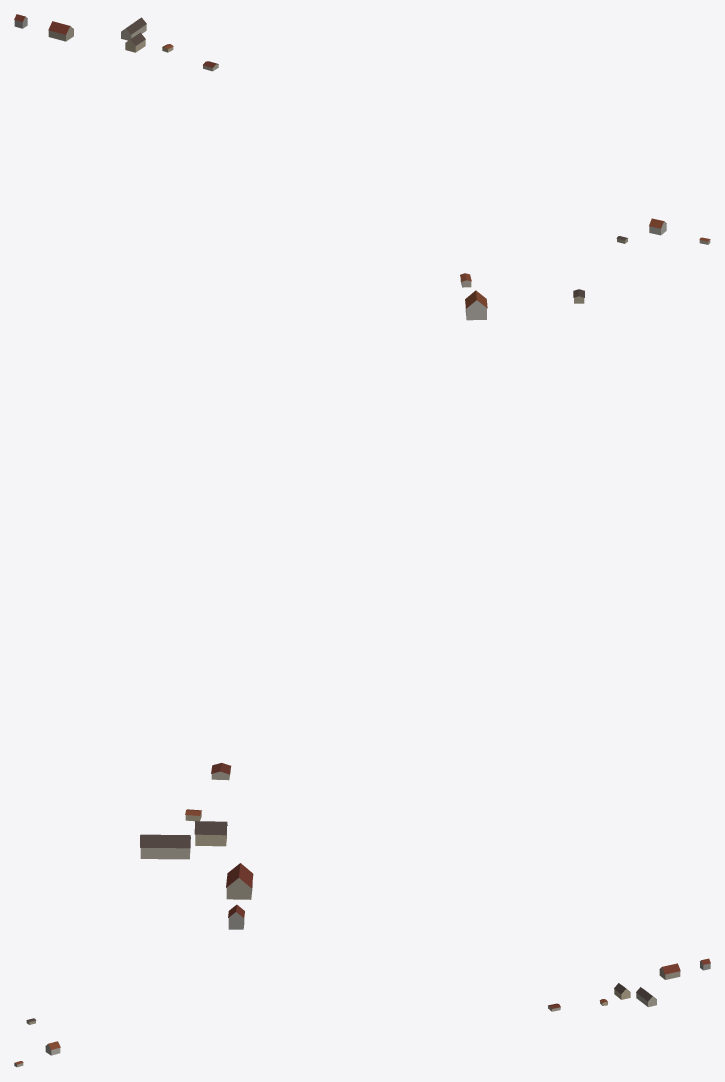
3 views of the same model, one above another, from view 1: azimuth 30°, elevation 25°; view 2: azimuth 150°, elevation 25°; view 3: azimuth 270°, elevation 25° (orthographic). The views are drawn at different scales.
Visible parts, largest first — view 1: buildings; view 2: buildings; view 3: buildings.
Part boxes in pixels (<box>): buildings: <box>14,14,710,244</box>; buildings: <box>140,273,584,929</box>; buildings: <box>14,958,710,1067</box>.
Bounding box in the file's own units: 253 × 31.99 × 644.
